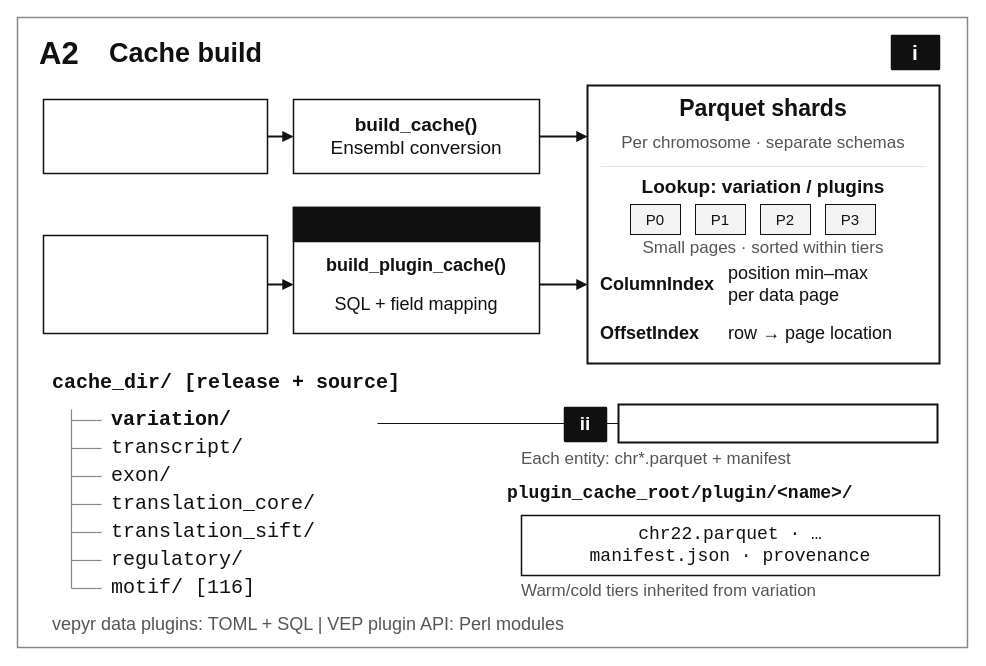
Image size: 986x666. Some labels were removed from this diagram. Each missing label, with the centre of its shape:
"chr22.parquet" goes at [777,423].
"Ensembl VEP cache Storable / Sereal" goes at [155,136].
"Plugin build · TOML" goes at [416,224].
"Plugin source files TSV / CSV / Parquet VCF / BED (4 columns)" goes at [155,284].
